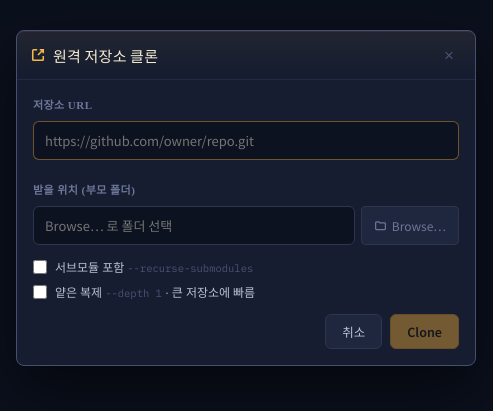
it: CloneModal — 3상태 › 폼: GitHub URL 입력 시 owner/repo 인식 표시
This screenshot has width=493, height=411.
Type "https://github.com/acme/widget.git" into the field with placeholder "https://github.com/owner/repo.git".
click(246, 140); type("https://github.com/acme/widget.git")  # box x1=33 y1=121 x2=459 y2=160
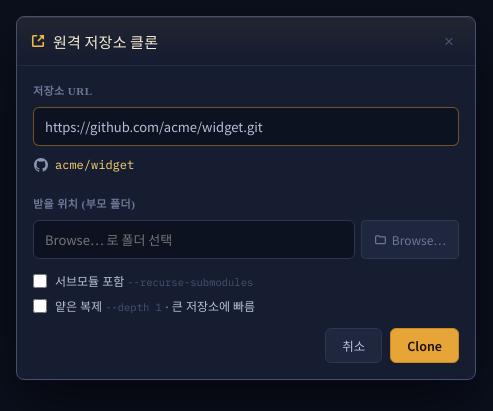
expect the text "acme/widget" is shown: met, box x1=55 y1=157 x2=134 y2=172
